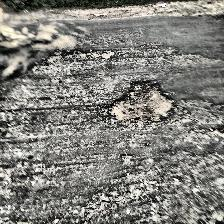pothole: (103, 79, 175, 125), (64, 49, 118, 59)
